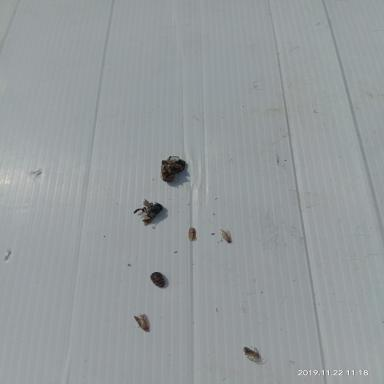pbw: (133, 312, 151, 333), (219, 228, 234, 244), (187, 225, 197, 242)
